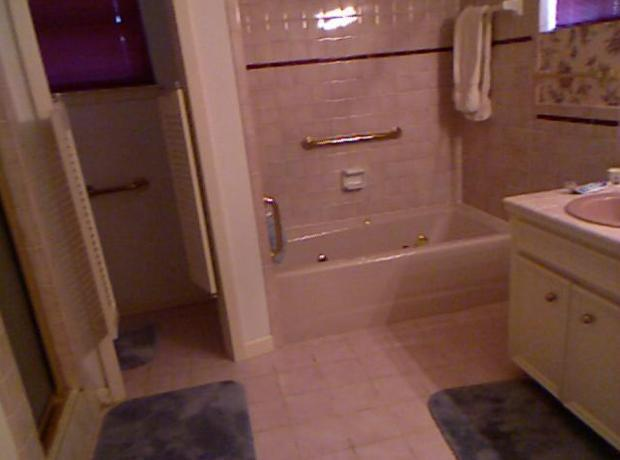Ducha: (20, 8, 253, 368)
Lavamanos: (564, 156, 617, 237)
